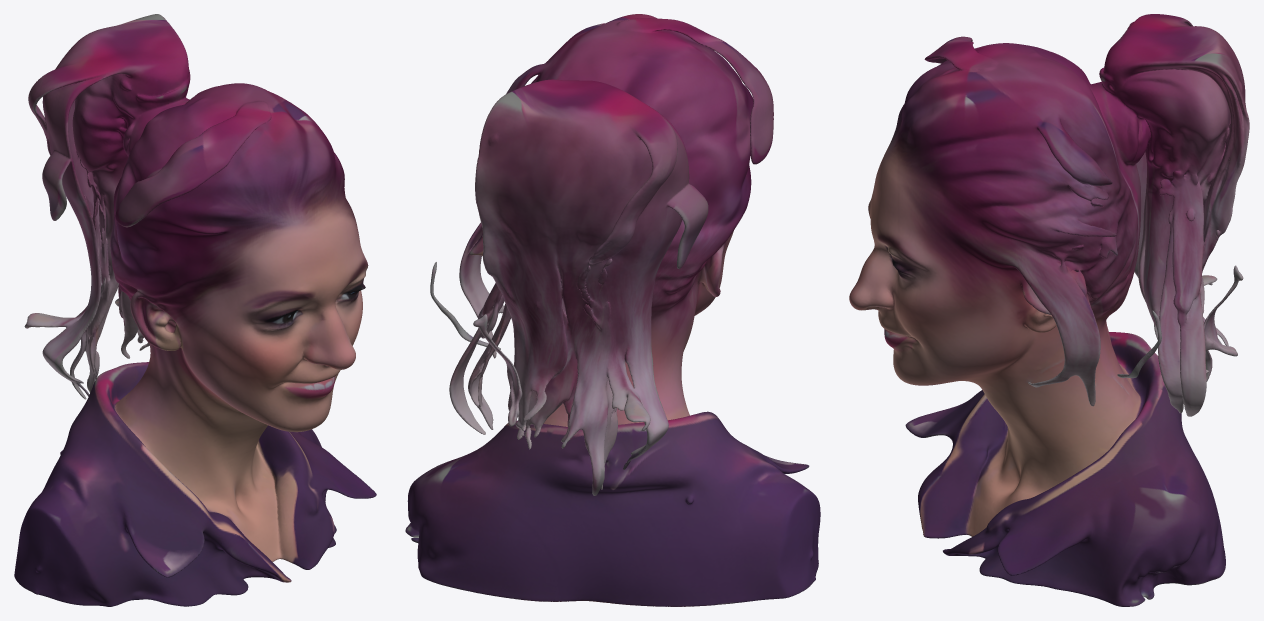
The model's file is girl.glb.
3 renders of one model, left to right at view 1: azimuth 30°, elevation 25°; view 2: azimuth 150°, elevation 25°; view 3: azimuth 270°, elevation 25°, orthographic. The views are drawn at different scales.
Parts seen in each view (by area): view 1: tripo_node_0a927c8f-8b85-465b-82b3-5ab45da18094; view 2: tripo_node_0a927c8f-8b85-465b-82b3-5ab45da18094; view 3: tripo_node_0a927c8f-8b85-465b-82b3-5ab45da18094.
Boxes of the visible parts, left/top/right/bottom form: tripo_node_0a927c8f-8b85-465b-82b3-5ab45da18094: left=14, top=14, right=376, bottom=606; tripo_node_0a927c8f-8b85-465b-82b3-5ab45da18094: left=405, top=14, right=820, bottom=606; tripo_node_0a927c8f-8b85-465b-82b3-5ab45da18094: left=849, top=14, right=1249, bottom=606.
Size of the model in its own units: 0.7646 by 1 by 0.7533.
1 material, 1 textured.
